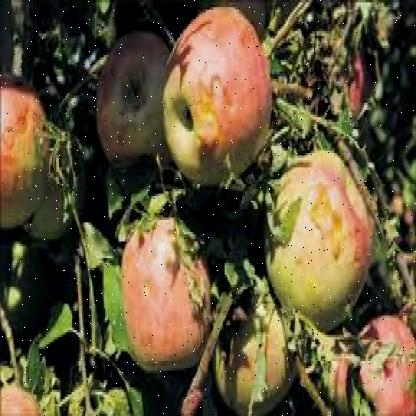damaged_apple: (163, 4, 275, 172), (264, 148, 368, 318), (112, 225, 218, 361), (213, 284, 298, 404), (95, 34, 171, 162), (334, 304, 414, 408), (2, 79, 56, 229)
